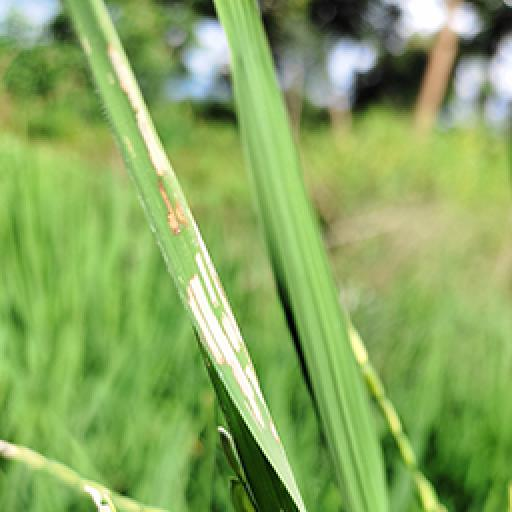Bacterial Leaf Blight: (150, 238, 332, 458), (54, 18, 195, 181)
Brown Spot: (139, 182, 209, 233)
